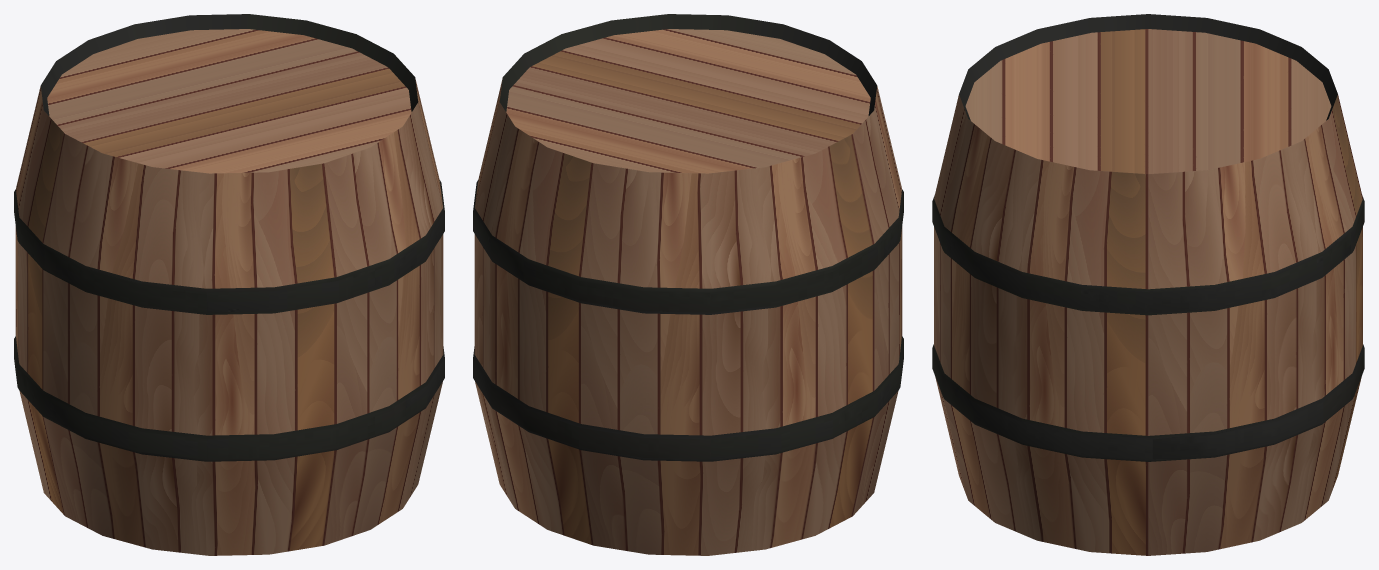
File: Wood_Barel_Light.fbx
3 renders of one model, left to right at view 1: azimuth 30°, elevation 25°; view 2: azimuth 150°, elevation 25°; view 3: azimuth 270°, elevation 25°, orthographic.
Parts seen in each view (by area): view 1: Barel; view 2: Barel; view 3: Barel.
Boxes of the visible parts, <box> form: Barel: <box>14,14,444,555</box>; Barel: <box>473,14,903,555</box>; Barel: <box>932,14,1364,555</box>.
Size of the model in its own units: 1.37 by 1.34 by 1.37.
Materials: 2 (2 with a texture image).
